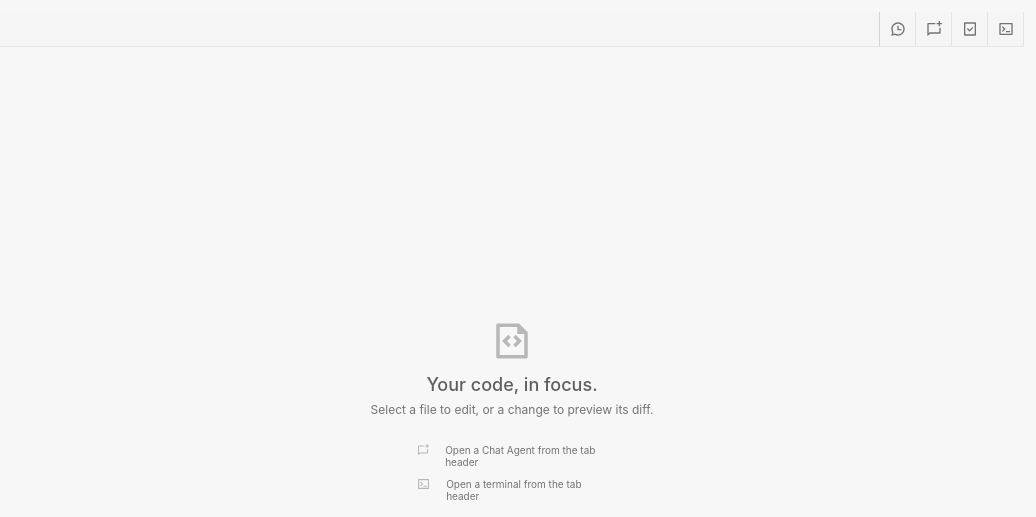
Test case: Chat history popover › keeps inside interactions open and toggles closed without reopening
Click the button named "Chat history" at (898, 29), box x1=880 y1=12 x2=916 y2=46
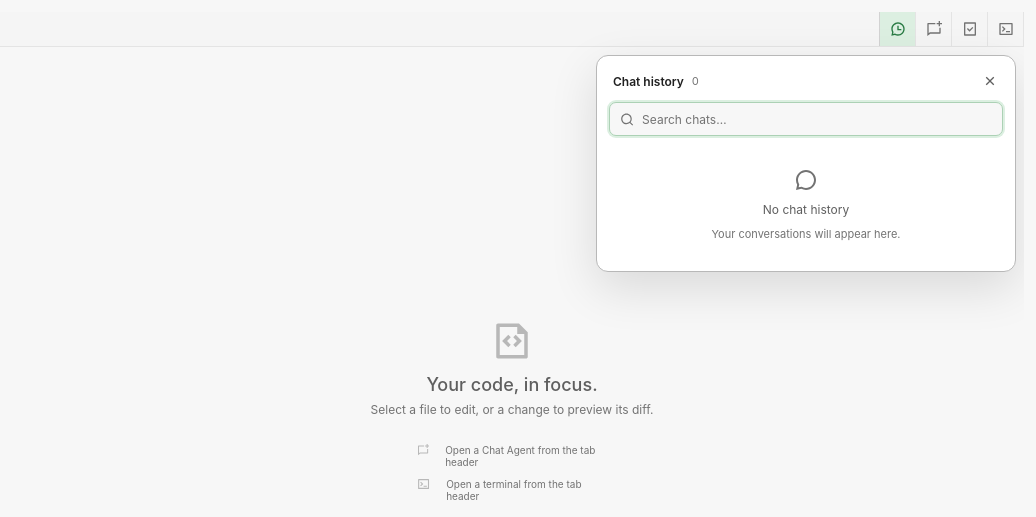
Check: the text "No chat history" is shown, box x1=763 y1=202 x2=849 y2=217
Type "test" into the search field labelled "Search chats" at (817, 119), box x1=642 y1=103 x2=992 y2=135
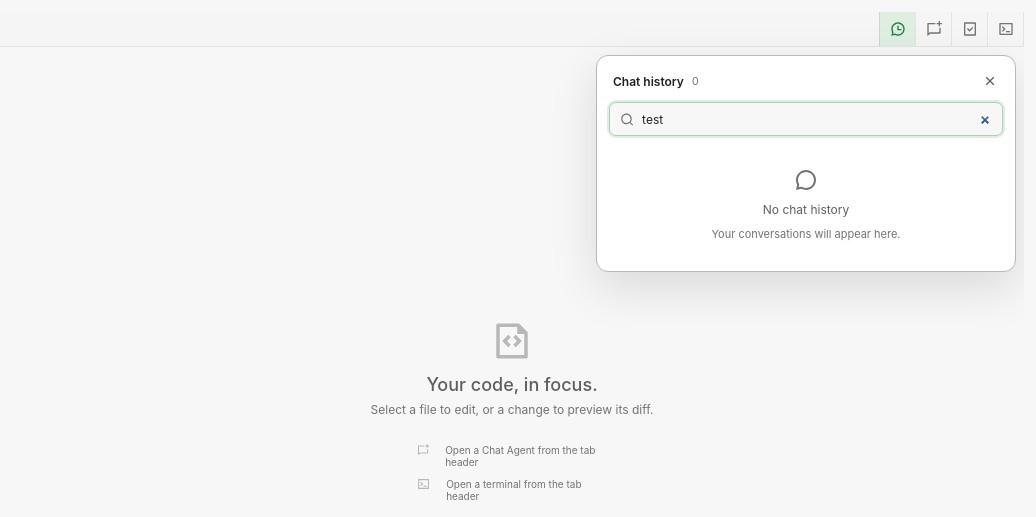
Check: the button named "Chat history" is expanded
Click the button named "Chat history" at (898, 29), box x1=880 y1=12 x2=916 y2=46
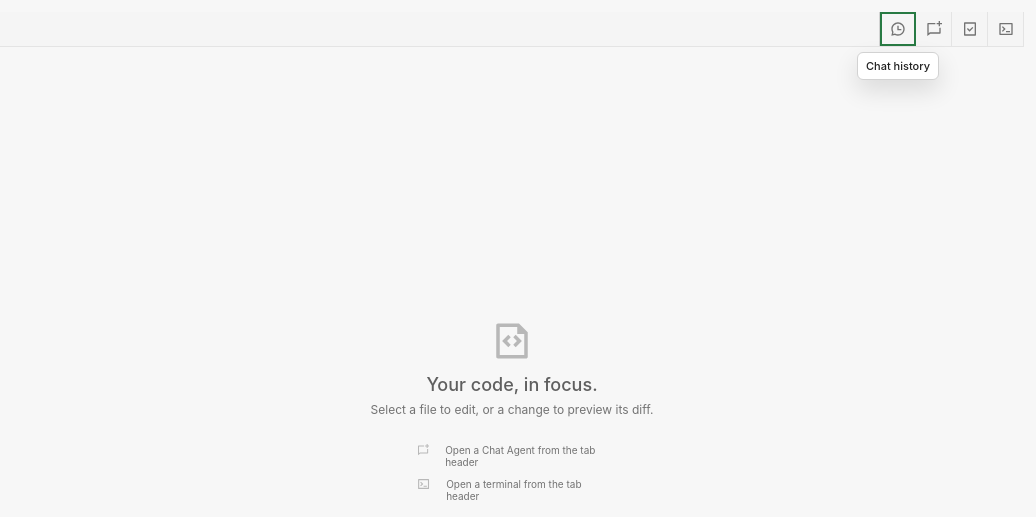
Check: the button named "Chat history" is collapsed, box x1=880 y1=12 x2=916 y2=46
